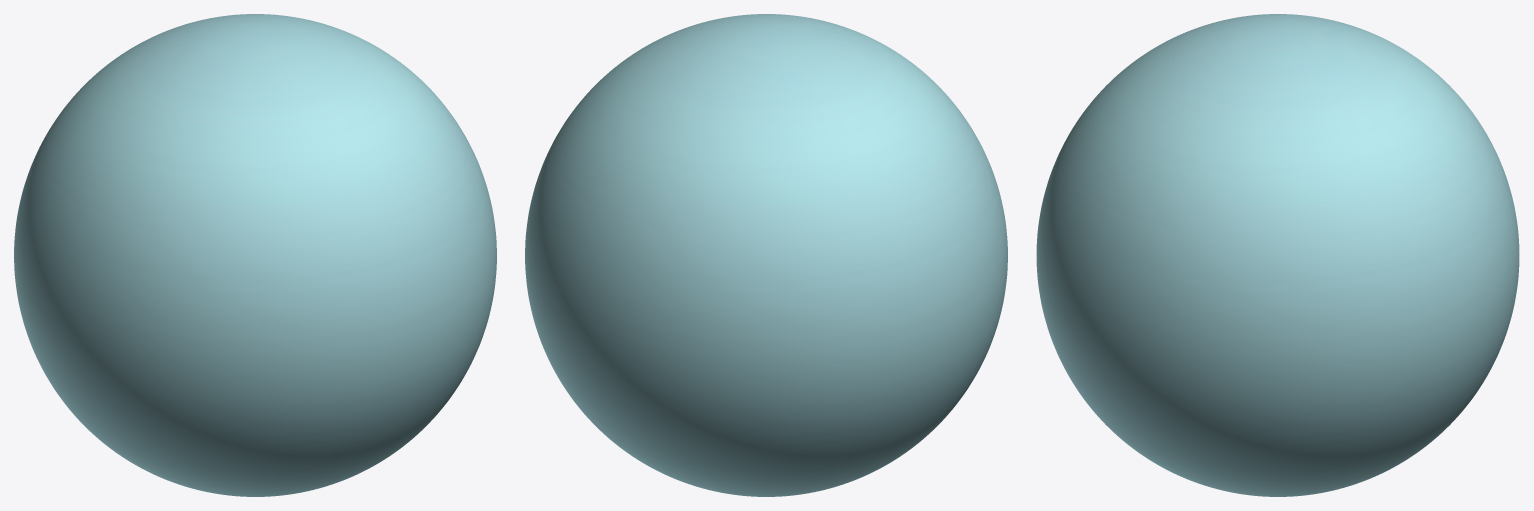
File: uranus.gltf
The picture shows the model from 3 angles, left to right: view 1: azimuth 30°, elevation 25°; view 2: azimuth 150°, elevation 25°; view 3: azimuth 270°, elevation 25°; orthographic projection.
Parts seen in each view (by area): view 1: Earth; view 2: Earth; view 3: Earth.
Part boxes in pixels (left/top/right/bottom): Earth: left=14, top=14, right=496, bottom=496; Earth: left=525, top=14, right=1007, bottom=496; Earth: left=1036, top=14, right=1519, bottom=496.
Size of the model in its own units: 100 by 100 by 100.
1 material, 1 textured.
